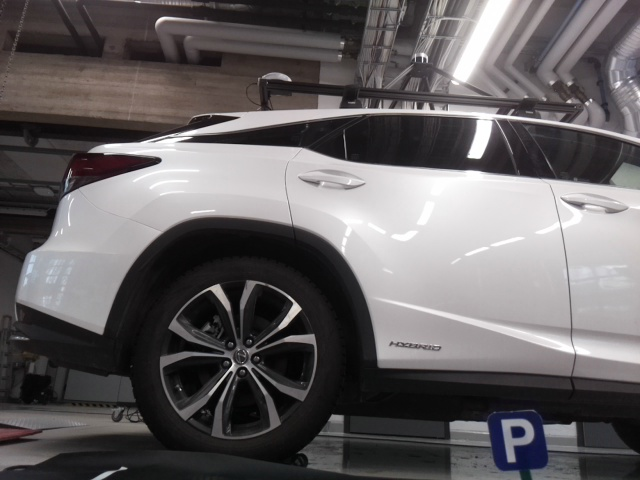Parking: (485, 410, 547, 469)
